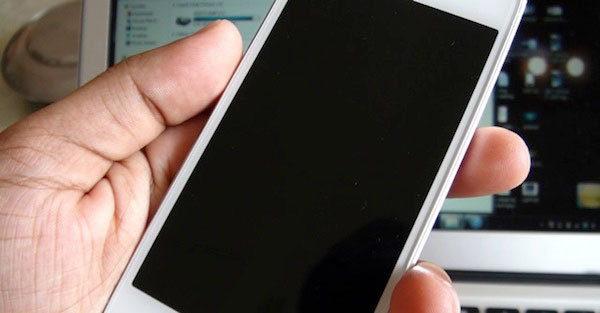Phone: (103, 1, 528, 313)
